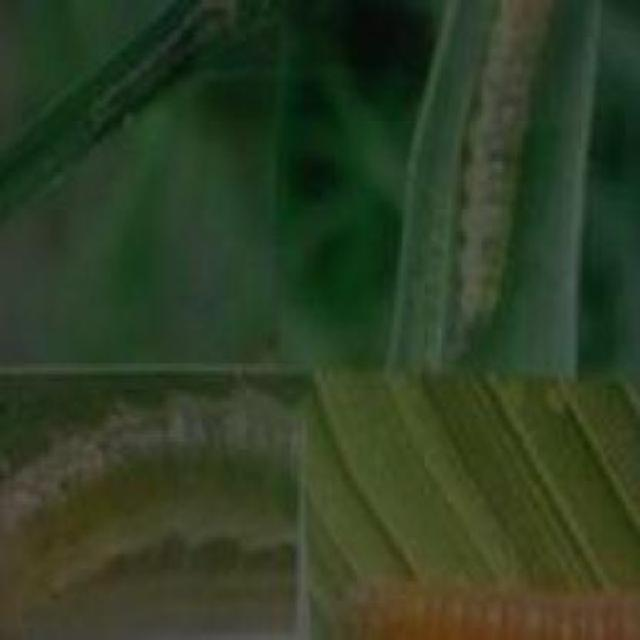leaf-folder: (0, 362, 289, 613), (425, 0, 578, 337), (51, 3, 262, 182), (340, 554, 640, 640)
